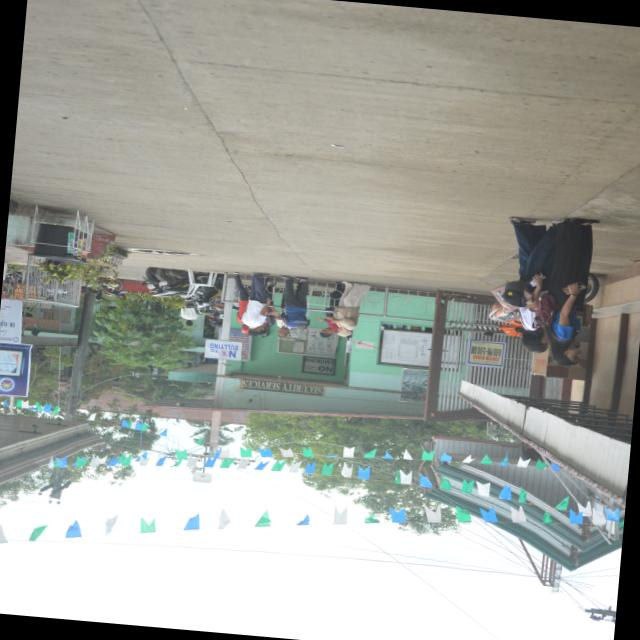person: (545, 218, 597, 365), (508, 216, 559, 351), (333, 280, 370, 336), (241, 272, 269, 335), (280, 275, 307, 336), (316, 282, 344, 337), (233, 272, 248, 333), (180, 307, 198, 325)
